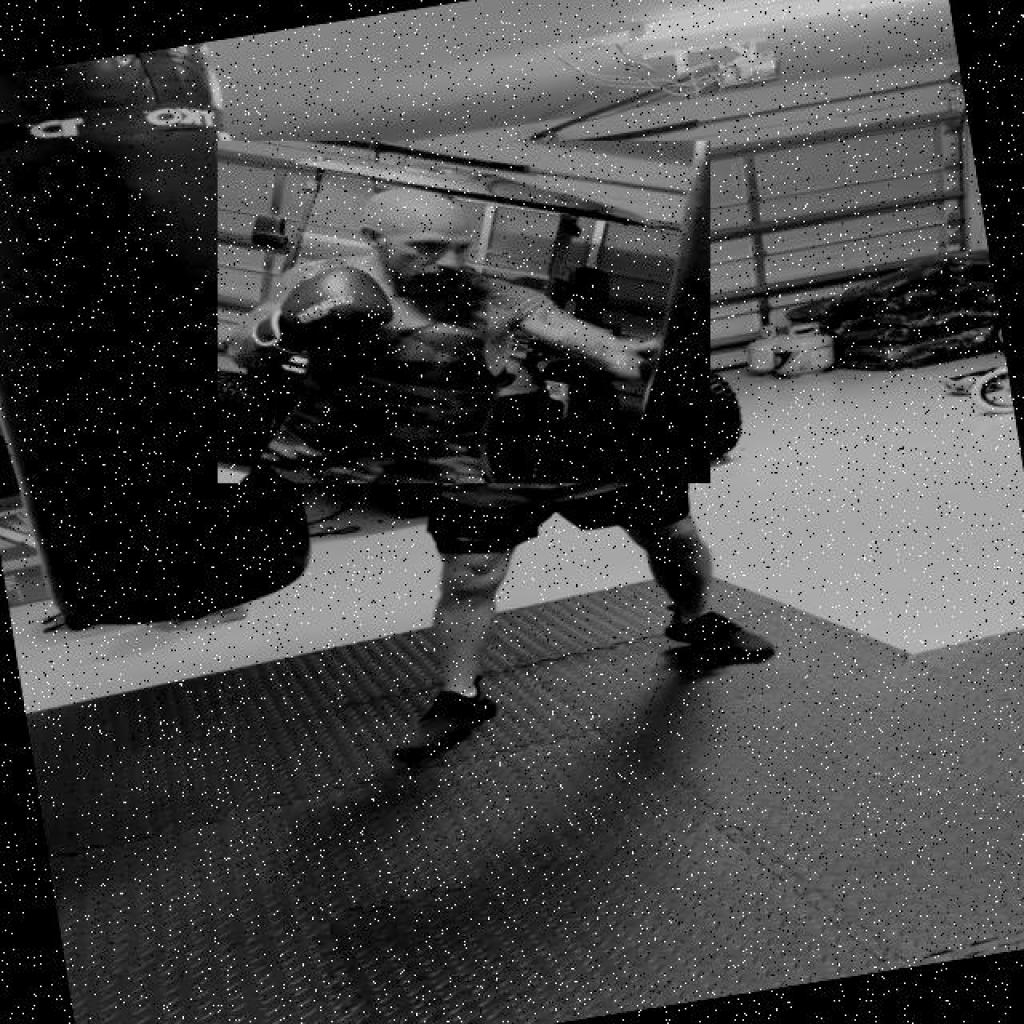jab: (218, 141, 711, 483)
